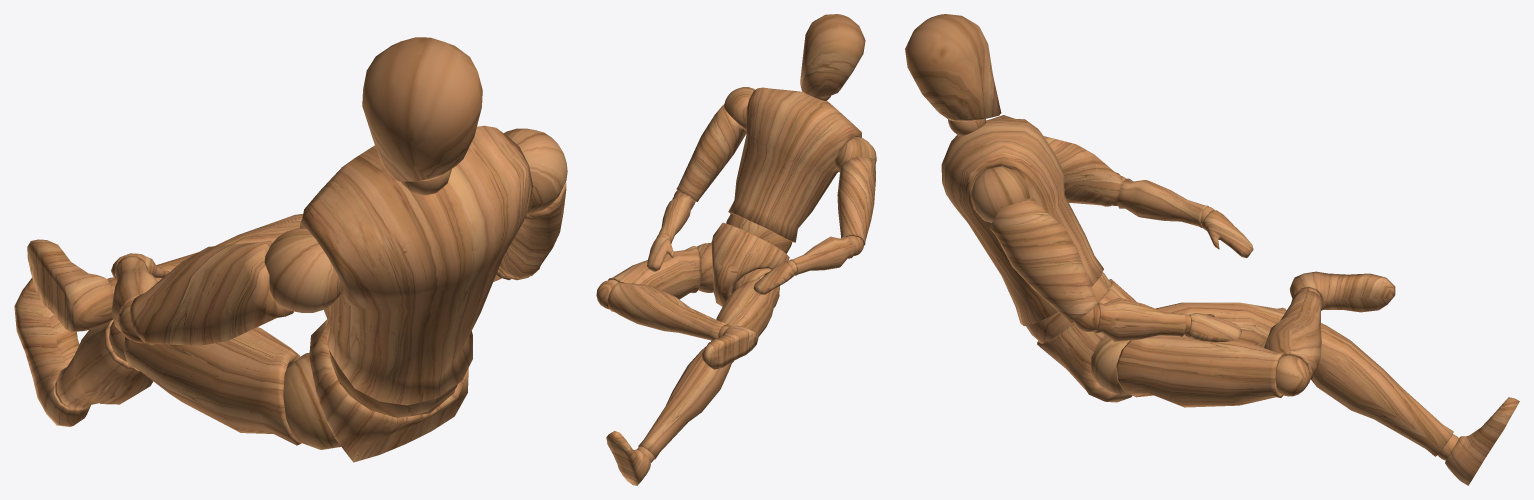
Rendered from 333.parts.obj.
3 views of the same model, side by side, from view 1: azimuth 30°, elevation 25°; view 2: azimuth 150°, elevation 25°; view 3: azimuth 270°, elevation 25° (orthographic). The views are drawn at different scales.
Visible parts, largest first — view 1: chest/back_6, right_thigh_21, head_1, right_arm_20, butt_25, left_foot_8, right_foot_9, right_shoulder_10, right_shin_18, left_arm_2, left_shoulder_4, right_forearm_26 (+3 smaller); view 2: chest/back_6, head_1, left_shin_13, right_shin_18, butt_25, left_thigh_5, left_arm_2, right_arm_20, right_thigh_21, left_foot_8, right_forearm_26, right_foot_9 (+7 smaller); view 3: chest/back_6, left_thigh_5, head_1, right_shin_18, left_arm_2, left_foot_8, right_arm_20, left_shin_13, butt_25, left_forearm_27, right_forearm_26, right_thigh_21 (+6 smaller).
Part boxes in pixels (bbox=[...]): chest/back_6: bbox=[300, 125, 532, 405]; right_thigh_21: bbox=[123, 327, 341, 449]; head_1: bbox=[362, 37, 482, 181]; right_arm_20: bbox=[130, 240, 293, 345]; butt_25: bbox=[309, 320, 468, 462]; left_foot_8: bbox=[27, 239, 113, 331]; right_foot_9: bbox=[14, 278, 90, 426]; right_shoulder_10: bbox=[264, 228, 342, 312]; right_shin_18: bbox=[56, 320, 152, 409]; left_arm_2: bbox=[499, 182, 566, 279]; left_shoulder_4: bbox=[504, 128, 567, 213]; right_forearm_26: bbox=[111, 256, 157, 333]; chest/back_6: bbox=[728, 87, 861, 242]; head_1: bbox=[800, 14, 865, 96]; left_shin_13: bbox=[607, 282, 729, 340]; right_shin_18: bbox=[638, 342, 733, 459]; butt_25: bbox=[711, 222, 789, 306]; left_thigh_5: bbox=[608, 243, 713, 299]; left_arm_2: bbox=[676, 104, 746, 201]; right_arm_20: bbox=[837, 156, 875, 245]; right_thigh_21: bbox=[711, 268, 779, 340]; left_foot_8: bbox=[702, 325, 758, 369]; right_forearm_26: bbox=[790, 236, 853, 275]; right_foot_9: bbox=[606, 431, 650, 485]; chest/back_6: bbox=[941, 115, 1103, 326]; left_thigh_5: bbox=[1090, 335, 1283, 407]; head_1: bbox=[905, 14, 1001, 121]; right_shin_18: bbox=[1311, 323, 1453, 456]; left_arm_2: bbox=[989, 197, 1098, 323]; left_foot_8: bbox=[1289, 271, 1395, 312]; right_arm_20: bbox=[1044, 136, 1122, 206]; left_shin_13: bbox=[1264, 290, 1323, 383]; butt_25: bbox=[1037, 279, 1136, 402]; left_forearm_27: bbox=[1093, 297, 1186, 341]; right_forearm_26: bbox=[1117, 178, 1208, 227]; right_thigh_21: bbox=[1155, 302, 1286, 347].
Size of the model in its own units: 0.7115 by 1.13 by 1.37.
Materials: 1 (1 with a texture image).
